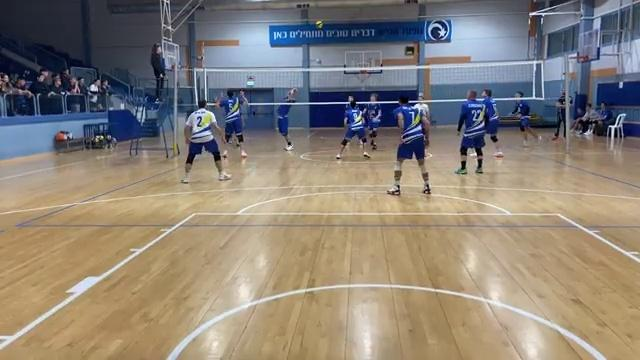ball: (313, 20, 326, 31)
